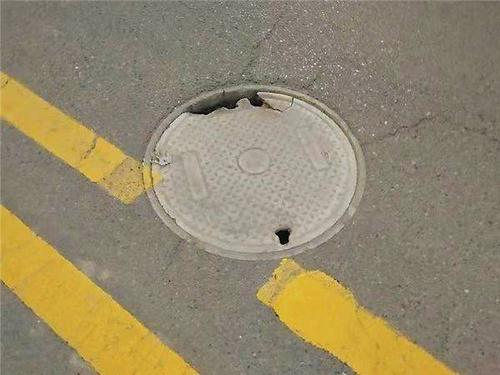broke: (139, 75, 373, 264)
